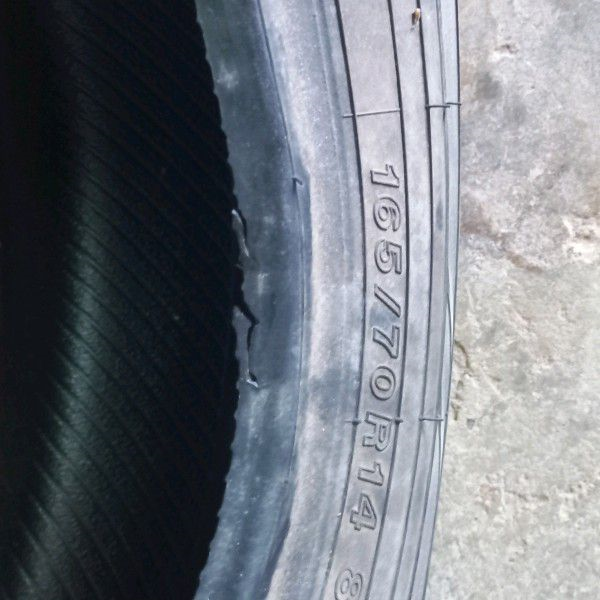bead_damage: (222, 189, 274, 395)
